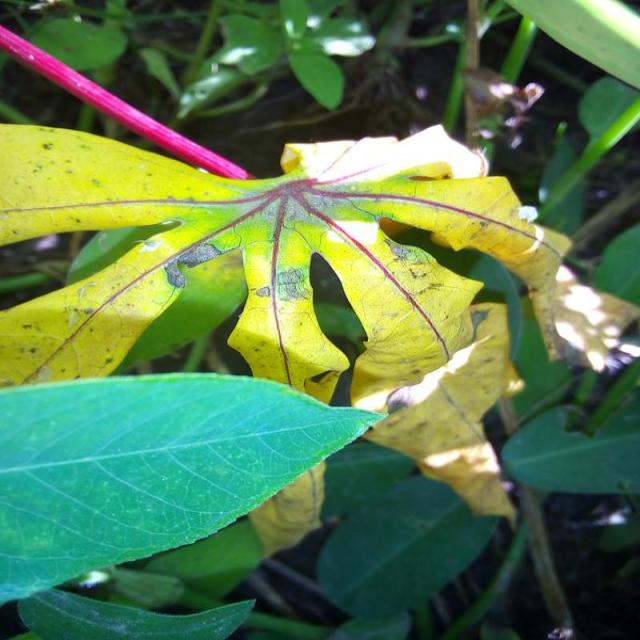cassava leaf: (0, 118, 570, 408), (0, 369, 389, 606)
